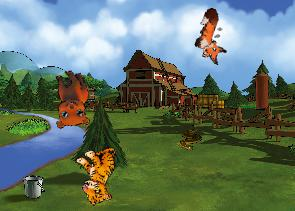bear: (41, 66, 97, 133)
fox: (188, 6, 238, 66)
tiger: (69, 141, 130, 207)
